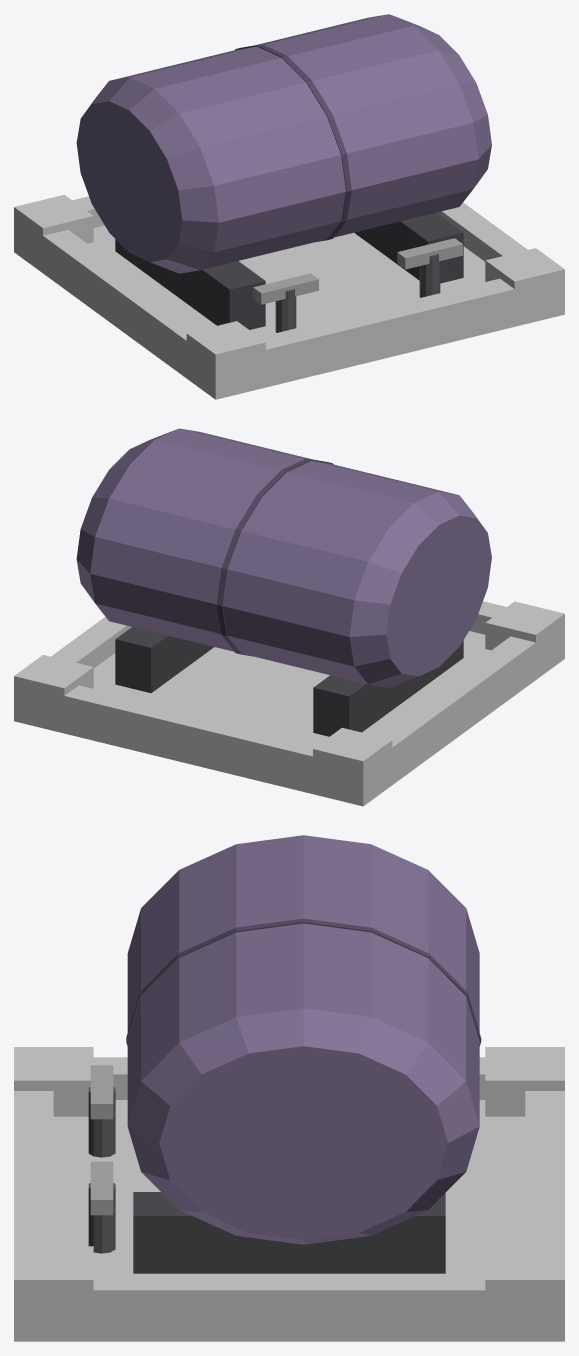
File: vge_astrofuel_tank.obj
3 views of the same model, one above another, from view 1: azimuth 30°, elevation 25°; view 2: azimuth 150°, elevation 25°; view 3: azimuth 270°, elevation 25° (orthographic). The views are drawn at different scales.
Parts seen in each view (by area): view 1: vge_astrofuel_tank_11, vge_astrofuel_tank_0, vge_astrofuel_tank_1, vge_astrofuel_tank_3, vge_astrofuel_tank_9, vge_astrofuel_tank_7, vge_astrofuel_tank_10, vge_astrofuel_tank_5, vge_astrofuel_tank_6, vge_astrofuel_tank_4, vge_astrofuel_tank_12, vge_astrofuel_tank_14 (+4 smaller); view 2: vge_astrofuel_tank_11, vge_astrofuel_tank_0, vge_astrofuel_tank_2, vge_astrofuel_tank_3, vge_astrofuel_tank_9, vge_astrofuel_tank_10, vge_astrofuel_tank_6, vge_astrofuel_tank_5, vge_astrofuel_tank_8, vge_astrofuel_tank_4, vge_astrofuel_tank_12, vge_astrofuel_tank_1; view 3: vge_astrofuel_tank_11, vge_astrofuel_tank_0, vge_astrofuel_tank_4, vge_astrofuel_tank_10, vge_astrofuel_tank_2, vge_astrofuel_tank_1, vge_astrofuel_tank_7, vge_astrofuel_tank_8, vge_astrofuel_tank_6, vge_astrofuel_tank_5, vge_astrofuel_tank_12, vge_astrofuel_tank_14 (+4 smaller).
Boxes of the visible parts, left/top/right/bottom form: vge_astrofuel_tank_11: left=76, top=14, right=491, bottom=273; vge_astrofuel_tank_0: left=14, top=225, right=564, bottom=399; vge_astrofuel_tank_1: left=201, top=277, right=564, bottom=398; vge_astrofuel_tank_3: left=28, top=225, right=203, bottom=388; vge_astrofuel_tank_9: left=115, top=239, right=265, bottom=329; vge_astrofuel_tank_7: left=485, top=248, right=564, bottom=326; vge_astrofuel_tank_10: left=354, top=212, right=463, bottom=283; vge_astrofuel_tank_5: left=186, top=321, right=265, bottom=398; vge_astrofuel_tank_6: left=14, top=194, right=93, bottom=264; vge_astrofuel_tank_4: left=436, top=202, right=527, bottom=261; vge_astrofuel_tank_12: left=235, top=44, right=351, bottom=241; vge_astrofuel_tank_14: left=253, top=273, right=318, bottom=304; vge_astrofuel_tank_11: left=76, top=428, right=491, bottom=687; vge_astrofuel_tank_0: left=14, top=631, right=564, bottom=806; vge_astrofuel_tank_2: left=14, top=683, right=377, bottom=806; vge_astrofuel_tank_3: left=375, top=636, right=535, bottom=795; vge_astrofuel_tank_9: left=313, top=640, right=463, bottom=736; vge_astrofuel_tank_10: left=115, top=627, right=213, bottom=693; vge_astrofuel_tank_6: left=313, top=727, right=392, bottom=805; vge_astrofuel_tank_5: left=485, top=601, right=564, bottom=671; vge_astrofuel_tank_8: left=14, top=655, right=93, bottom=733; vge_astrofuel_tank_4: left=51, top=617, right=131, bottom=668; vge_astrofuel_tank_12: left=216, top=458, right=333, bottom=656; vge_astrofuel_tank_1: left=469, top=601, right=564, bottom=655; vge_astrofuel_tank_11: left=127, top=835, right=479, bottom=1244; vge_astrofuel_tank_0: left=14, top=1100, right=564, bottom=1341; vge_astrofuel_tank_4: left=53, top=1273, right=525, bottom=1341; vge_astrofuel_tank_10: left=133, top=1192, right=445, bottom=1273; vge_astrofuel_tank_2: left=525, top=1091, right=564, bottom=1341; vge_astrofuel_tank_1: left=14, top=1091, right=53, bottom=1341; vge_astrofuel_tank_7: left=14, top=1246, right=93, bottom=1341; vge_astrofuel_tank_8: left=485, top=1246, right=564, bottom=1341; vge_astrofuel_tank_6: left=485, top=1047, right=564, bottom=1116; vge_astrofuel_tank_5: left=14, top=1047, right=93, bottom=1116; vge_astrofuel_tank_12: left=126, top=918, right=481, bottom=1046; vge_astrofuel_tank_14: left=90, top=1065, right=113, bottom=1119.
Bounding box in the file's own units: 1.94 × 1.18 × 1.94.
